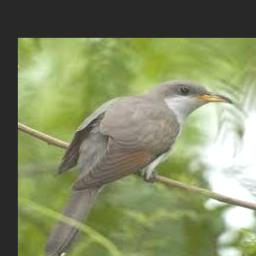Cuckoo: (43, 80, 233, 256)
